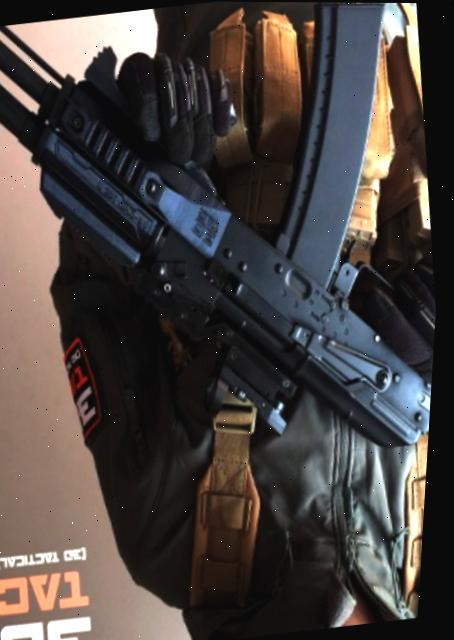rifle: (0, 0, 454, 533)
